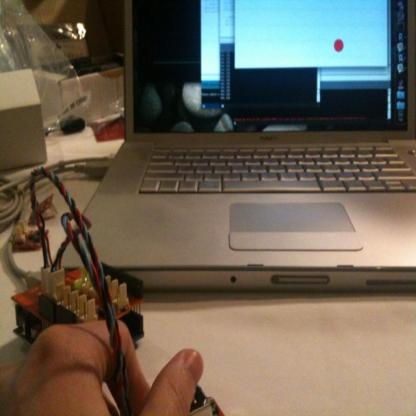board: (57, 2, 416, 290)
